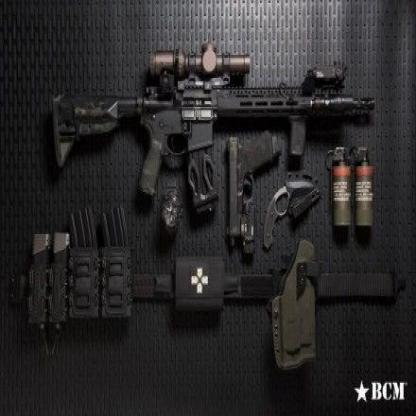Grenade: (326, 146, 352, 232), (355, 145, 376, 231)
Gun: (50, 41, 377, 200)
Pistol: (225, 128, 283, 252)
